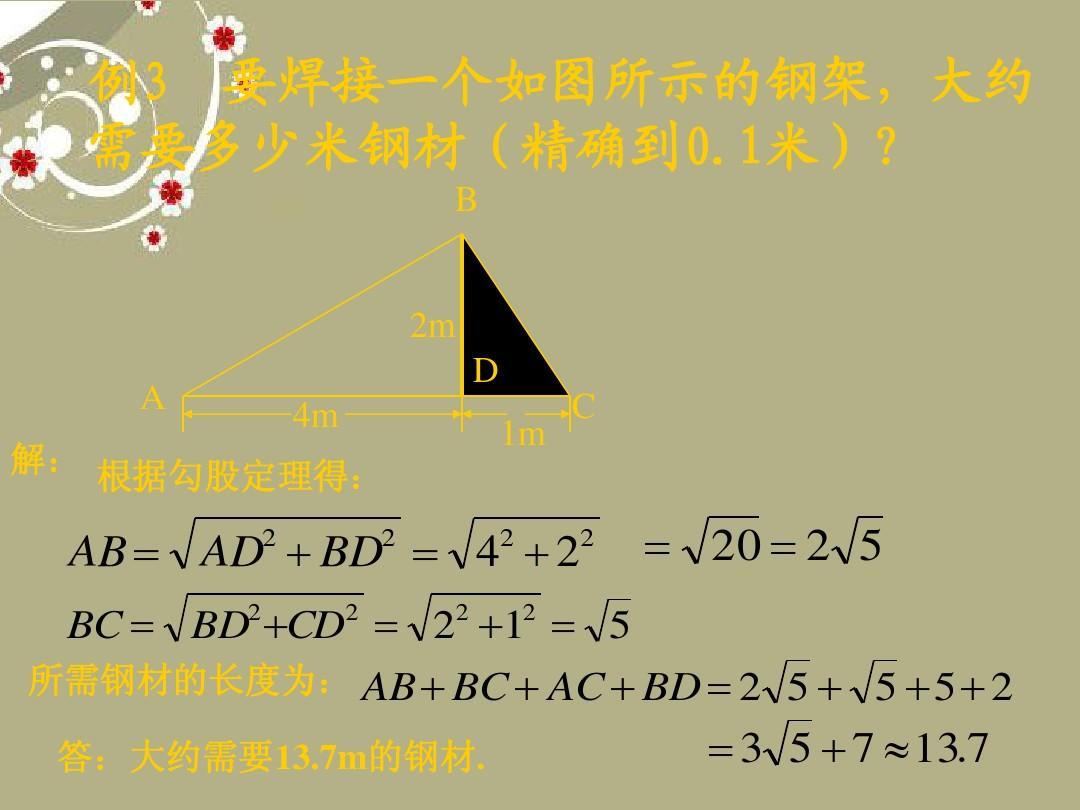sqrt: (167, 513, 402, 569), (164, 588, 377, 644), (456, 511, 604, 573), (406, 583, 543, 645), (680, 512, 763, 567), (832, 504, 887, 577), (759, 717, 814, 771), (849, 657, 908, 706), (761, 649, 812, 704), (588, 596, 640, 644)
square: (496, 524, 516, 548), (577, 525, 597, 549), (343, 600, 362, 622), (453, 601, 470, 624), (262, 528, 278, 547), (521, 602, 536, 622), (247, 603, 261, 621), (383, 527, 394, 547)
